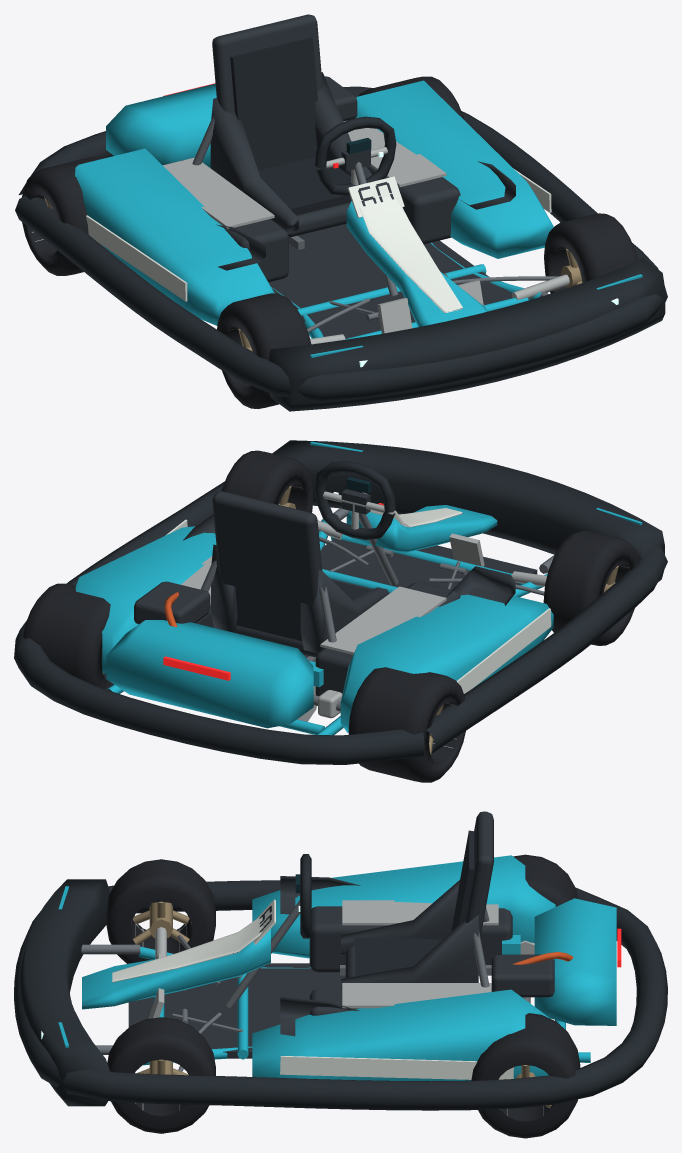
The model's file is photon-lod.glb.
3 views of the same model, one above another, from view 1: azimuth 30°, elevation 25°; view 2: azimuth 150°, elevation 25°; view 3: azimuth 270°, elevation 25° (orthographic).
Parts seen in each view (by area): view 1: Moulded bumper polymer (×3), paint, Satin composite, Slick vulcanised rubber (×4), Seat fabric, Livery ivory, Brushed alloy (×2), Steel fasteners; view 2: Moulded bumper polymer (×3), paint, Satin composite (×2), Slick vulcanised rubber (×4), Brushed alloy (×3), Livery ivory, Steel fasteners, brake_light; view 3: paint, Moulded bumper polymer (×3), Satin composite, Slick vulcanised rubber (×4), Livery ivory, Brushed alloy, Seat fabric, Steel fasteners (×2), Magnesium wheel centres.
Boxes of the visible parts, left/top/right/bottom form: Moulded bumper polymer (×3): left=15, top=86, right=667, bottom=411; paint: left=75, top=80, right=553, bottom=339; Satin composite: left=167, top=14, right=515, bottom=338; Slick vulcanised rubber (×4): left=22, top=76, right=637, bottom=408; Seat fabric: left=230, top=37, right=351, bottom=215; Livery ivory: left=86, top=168, right=551, bottom=312; Brushed alloy (×2): left=163, top=117, right=569, bottom=344; Steel fasteners: left=192, top=116, right=558, bottom=332; Moulded bumper polymer (×3): left=14, top=440, right=667, bottom=764; paint: left=75, top=505, right=553, bottom=735; Satin composite (×2): left=134, top=489, right=537, bottom=695; Slick vulcanised rubber (×4): left=23, top=450, right=639, bottom=782; Brushed alloy (×3): left=181, top=491, right=546, bottom=721; Livery ivory: left=165, top=508, right=551, bottom=693; Steel fasteners: left=200, top=513, right=544, bottom=711; brake_light: left=163, top=656, right=230, bottom=680; paint: left=82, top=855, right=616, bottom=1081; Moulded bumper polymer (×3): left=14, top=854, right=667, bottom=1110; Satin composite: left=128, top=811, right=554, bottom=1058; Slick vulcanised rubber (×4): left=106, top=854, right=580, bottom=1138; Livery ivory: left=112, top=899, right=513, bottom=1079; Brushed alloy: left=155, top=900, right=534, bottom=1008; Seat fabric: left=355, top=830, right=474, bottom=976; Steel fasteners (×2): left=81, top=900, right=530, bottom=1074; Magnesium wheel centres: left=133, top=901, right=189, bottom=944.
Bounding box in the file's own units: 2.17 × 1.01 × 2.8.
